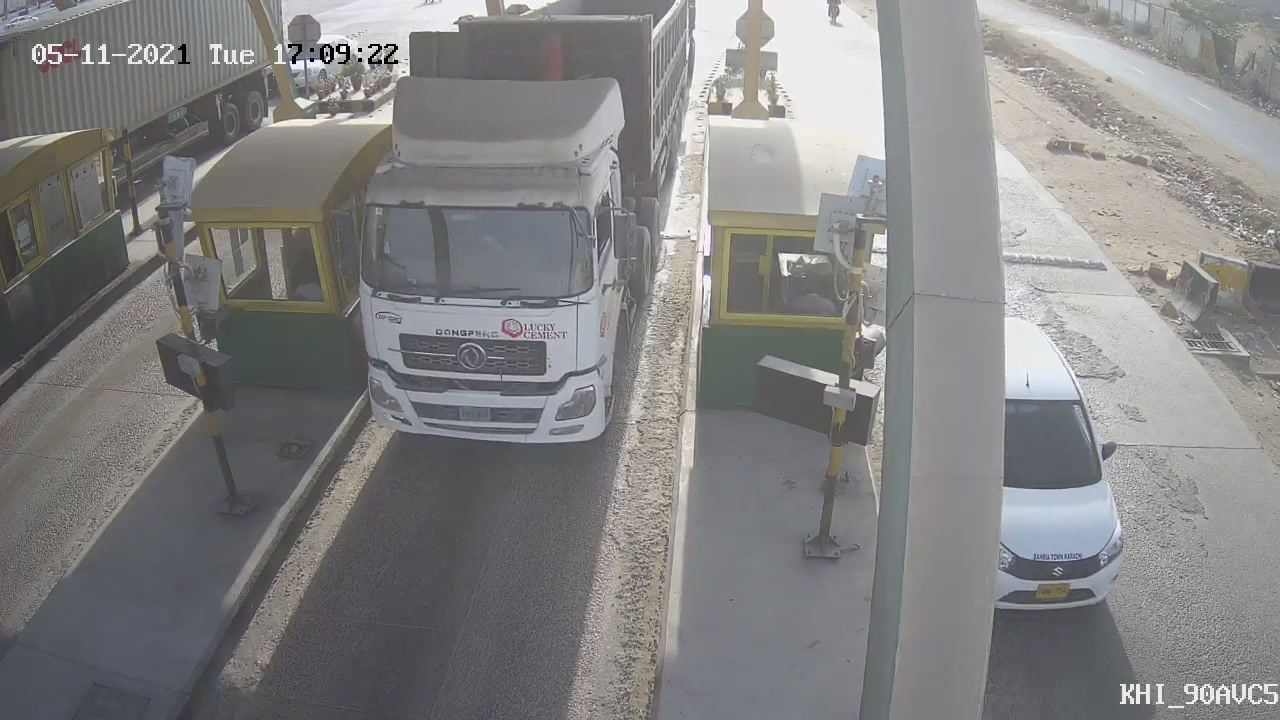F6: (309, 1, 707, 468)
